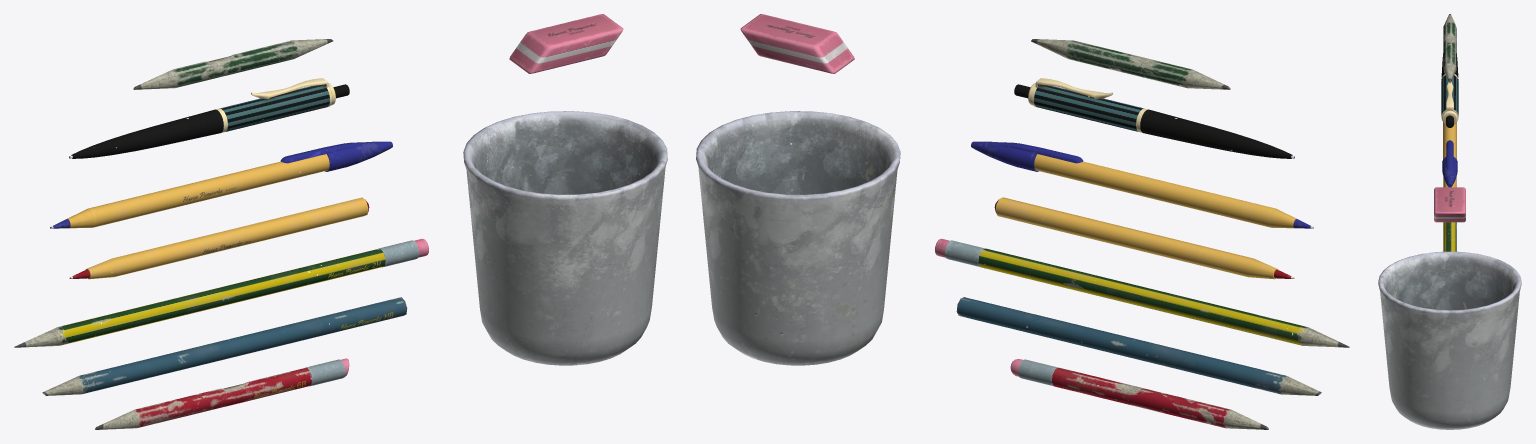
Rendered from stationery_supplies.glb.
3 renders of one model, left to right at view 1: azimuth 30°, elevation 25°; view 2: azimuth 150°, elevation 25°; view 3: azimuth 270°, elevation 25°, orthographic. The views are drawn at different scales.
Visible parts, largest first — view 1: stationery_supplies_pen_red; view 2: stationery_supplies_pen_red; view 3: stationery_supplies_pen_red.
Part boxes in pixels (x1=…): stationery_supplies_pen_red: x1=14, y1=14, x2=667, y2=429; stationery_supplies_pen_red: x1=696, y1=14, x2=1349, y2=429; stationery_supplies_pen_red: x1=1378, y1=14, x2=1521, y2=429.
Bounding box in the file's own units: 0.3019 × 0.1644 × 0.0837.
Materials: 1 (1 with a texture image).
